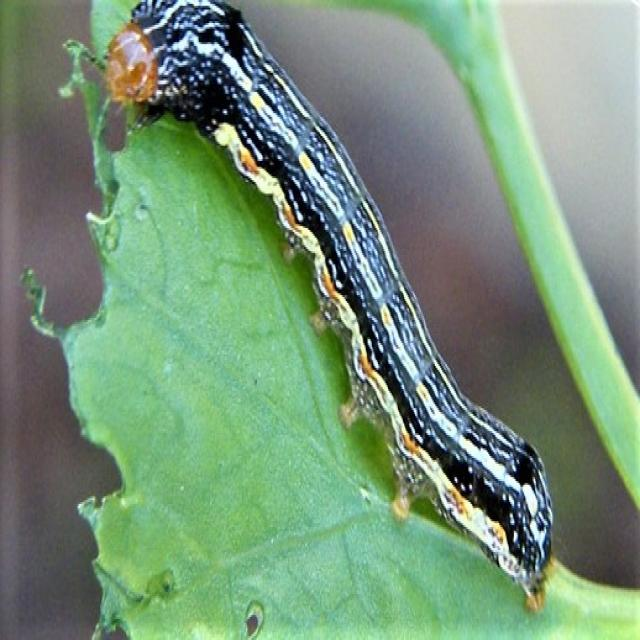armyworm: (60, 0, 554, 611)
